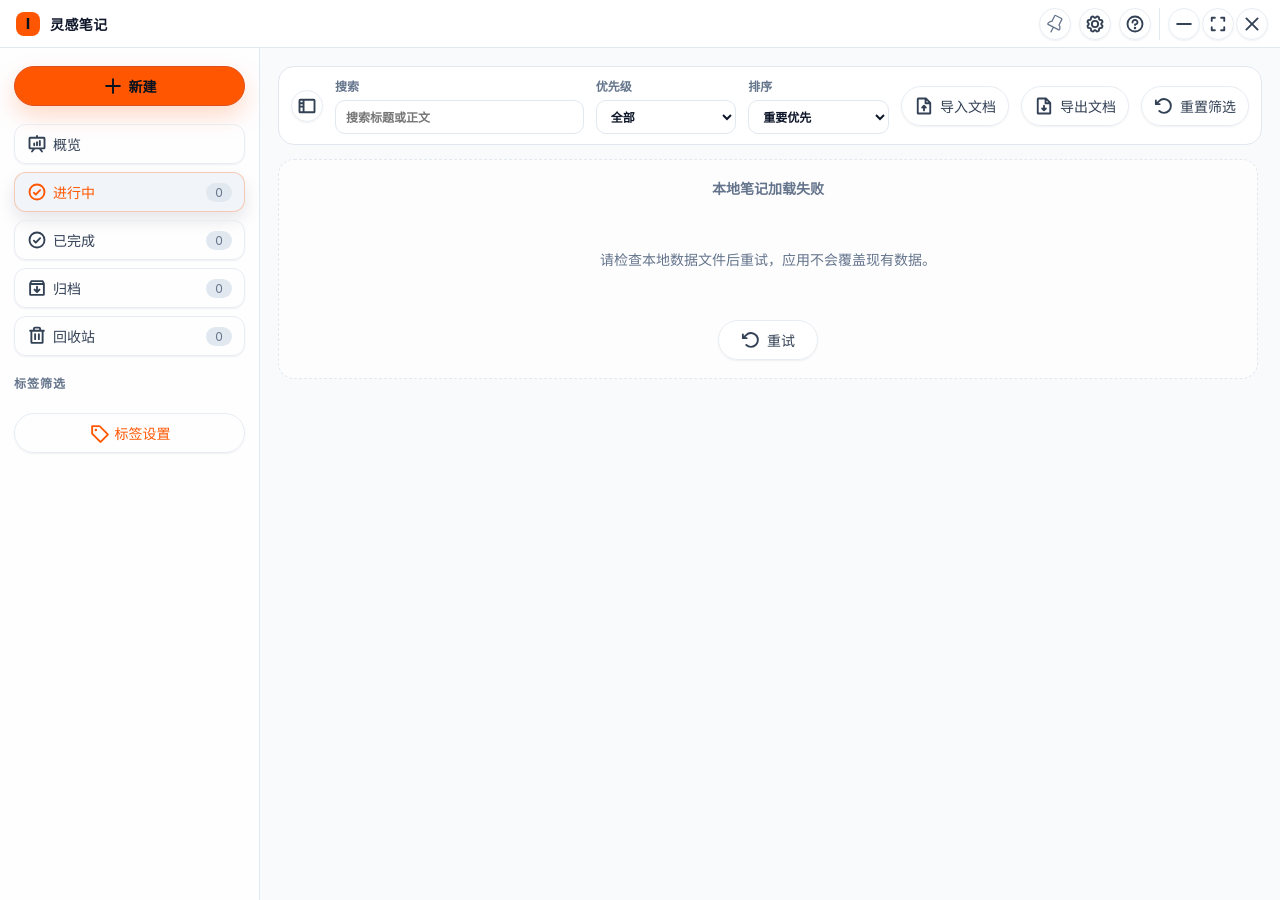
Test: App core › 加载本地数据失败时显示错误并支持重试
expect the text "本地笔记加载失败" is shown: met, box [712,178,824,198]
expect the text "请检查本地数据文件后重试，应用不会覆盖现有数据。" is shown: met, box [600,249,936,269]
Click the button "重试". click: [768, 340]
box: [718,320,818,360]
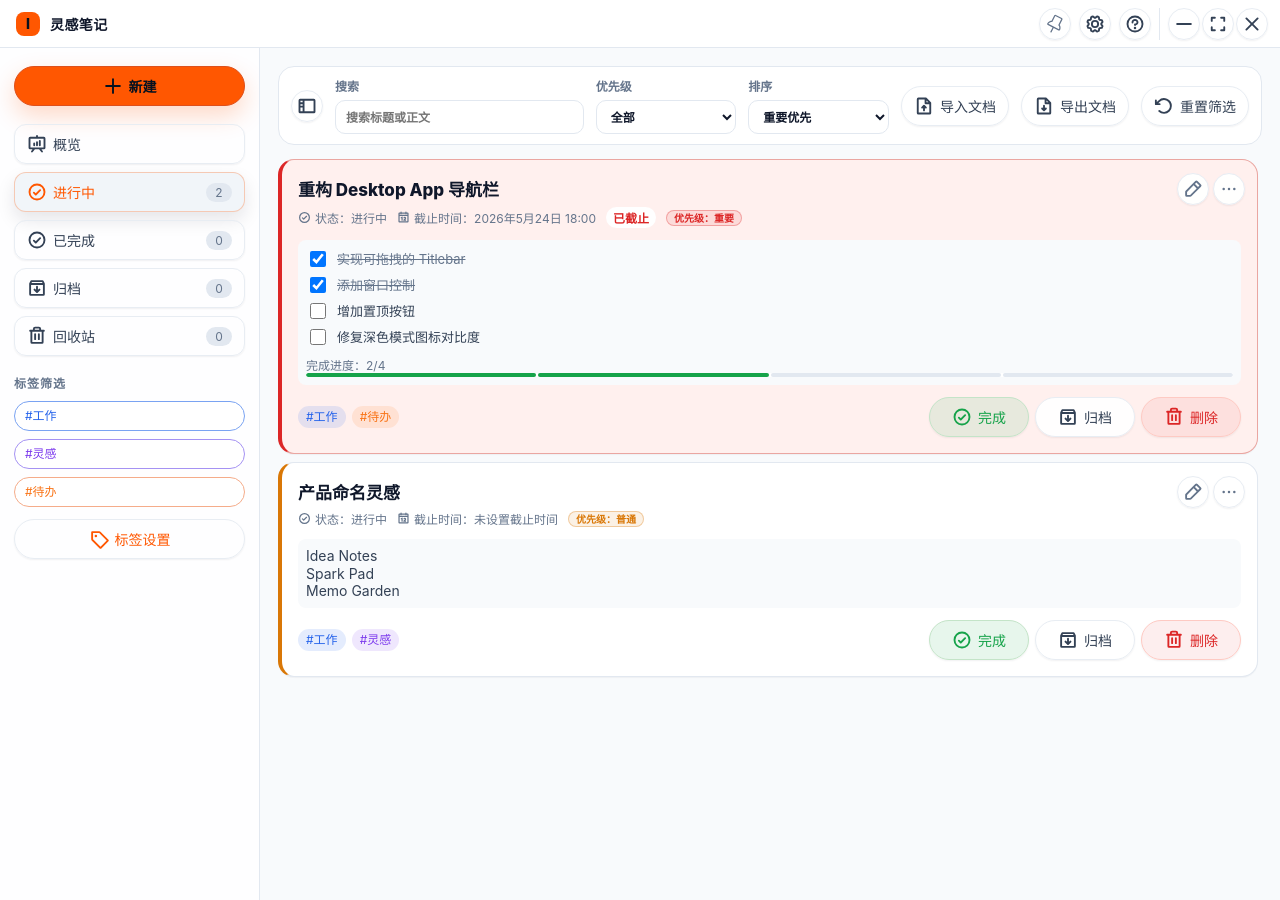
expect the button "重构 Desktop App 导航栏" is shown: met, box [298,176,1181,201]
expect the text "本地笔记加载失败" is gone: met
